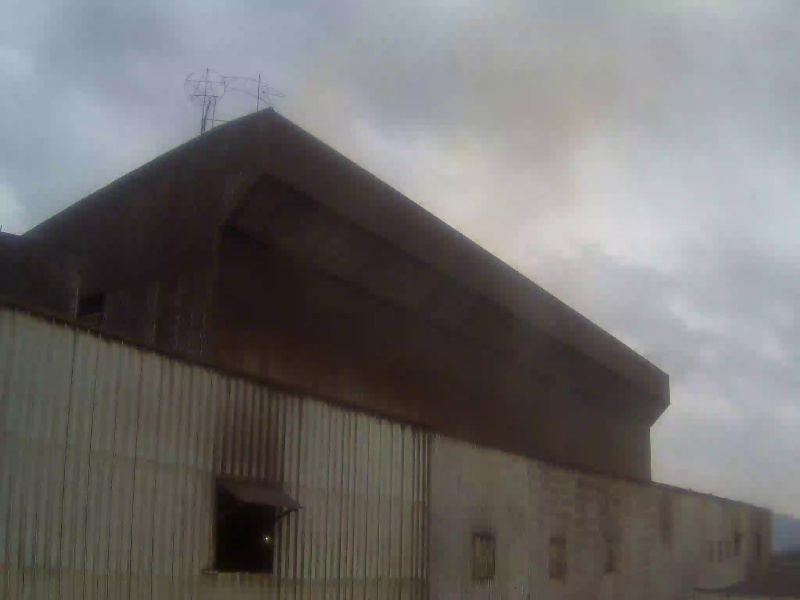Ruim: (313, 14, 596, 273)
